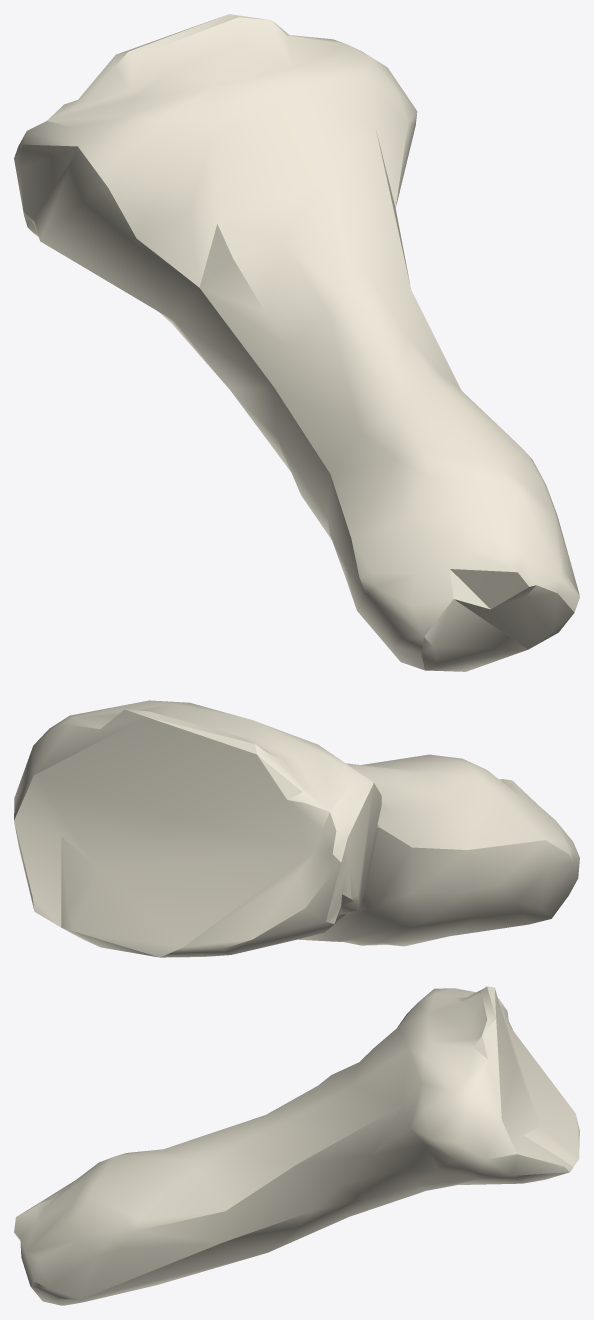
File: fma24462.glb
3 renders of one model, top to bottom at view 1: azimuth 30°, elevation 25°; view 2: azimuth 150°, elevation 25°; view 3: azimuth 270°, elevation 25°, orthographic. The views are drawn at different scales.
Visible parts, largest first — view 1: FMA24462; view 2: FMA24462; view 3: FMA24462.
Part boxes in pixels (box(x1,y1,x2,y2)): FMA24462: box(14, 14, 579, 671); FMA24462: box(14, 700, 579, 957); FMA24462: box(14, 986, 579, 1305).
Bounding box in the file's own units: 0.00844 × 0.00931 × 0.016.
